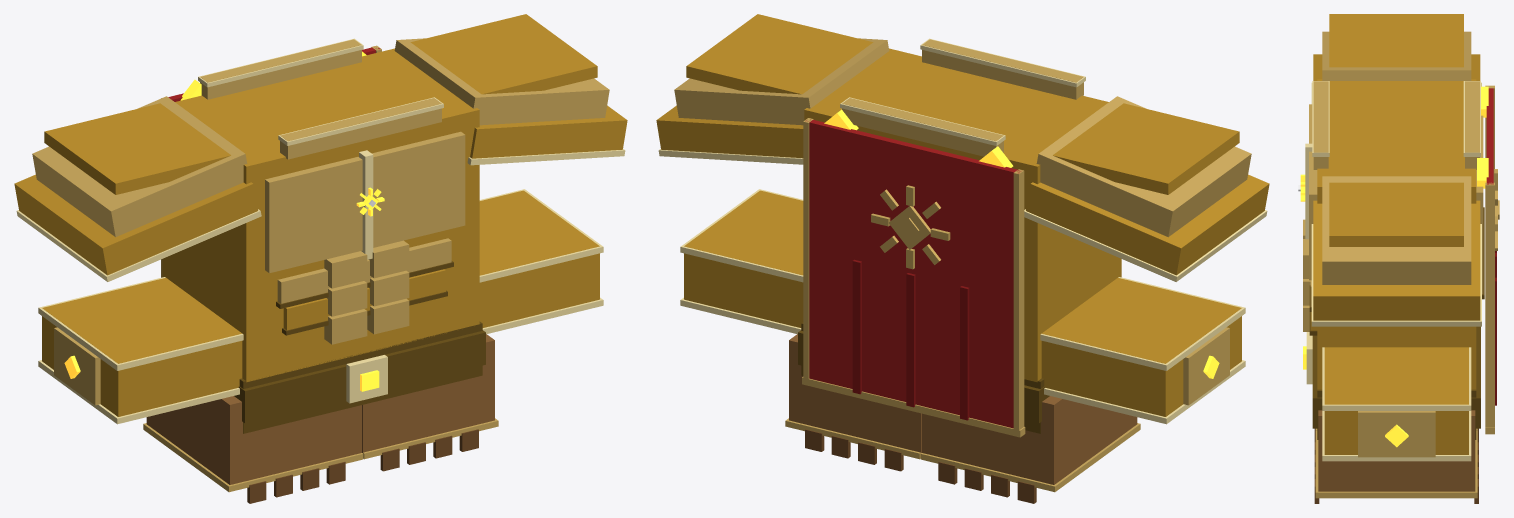
3 views of the same model, side by side, from view 1: azimuth 30°, elevation 25°; view 2: azimuth 150°, elevation 25°; view 3: azimuth 270°, elevation 25° (orthographic). The views are drawn at different scales.
Parts seen in each view (by area): view 1: rank-chad-c; view 2: rank-chad-c; view 3: rank-chad-c.
Part boxes in pixels (x1,y1,x2,y2): rank-chad-c: (14,14,627,503); rank-chad-c: (656,14,1269,503); rank-chad-c: (1298,14,1499,503).
Size of the model in its own units: 1.24 by 0.7972 by 0.4346.
